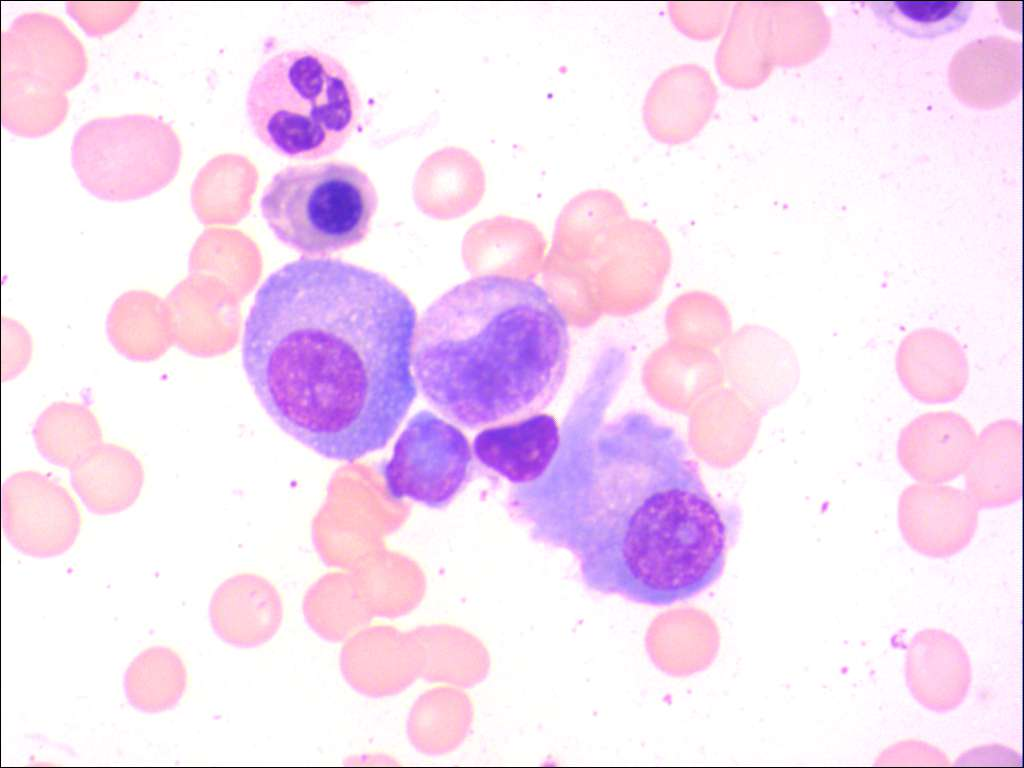24: (256, 158, 381, 261)
4: (405, 270, 574, 433)
51: (495, 339, 746, 610), (237, 255, 422, 468)
6: (242, 44, 367, 167)
x: (380, 407, 477, 515), (468, 409, 565, 489)
